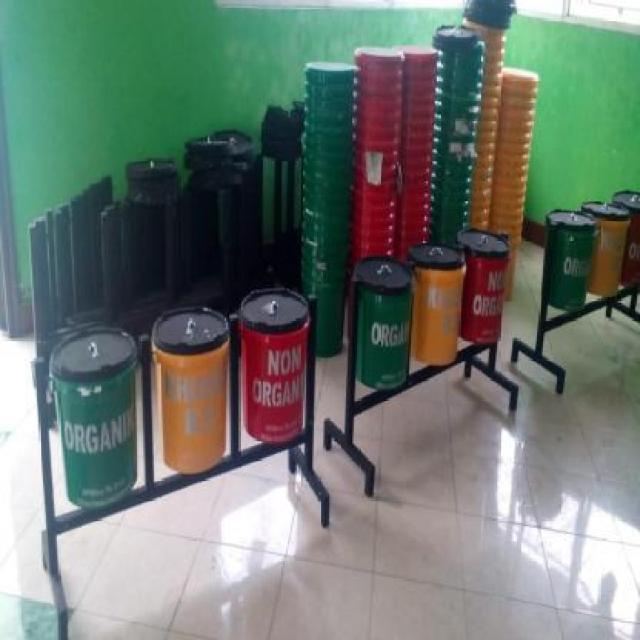garbage container: (46, 323, 140, 531), (146, 300, 234, 488), (234, 276, 314, 461), (349, 250, 417, 407), (457, 212, 514, 369), (408, 235, 463, 379), (542, 199, 598, 330)
